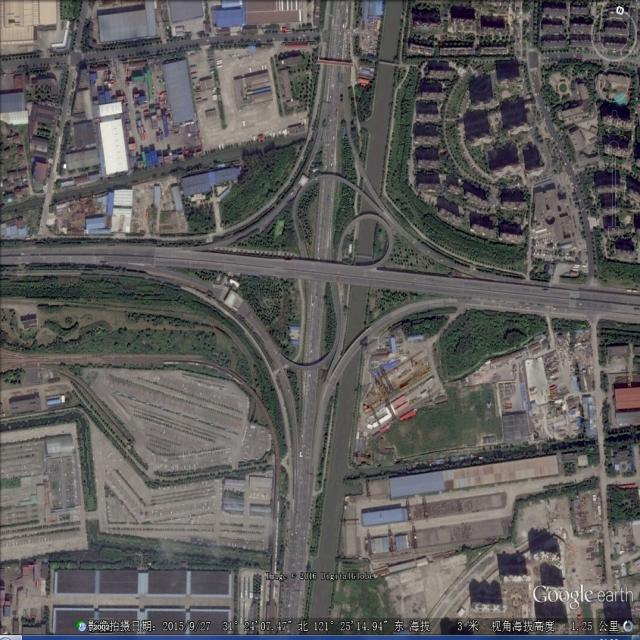overpass: (131, 97, 478, 469)
